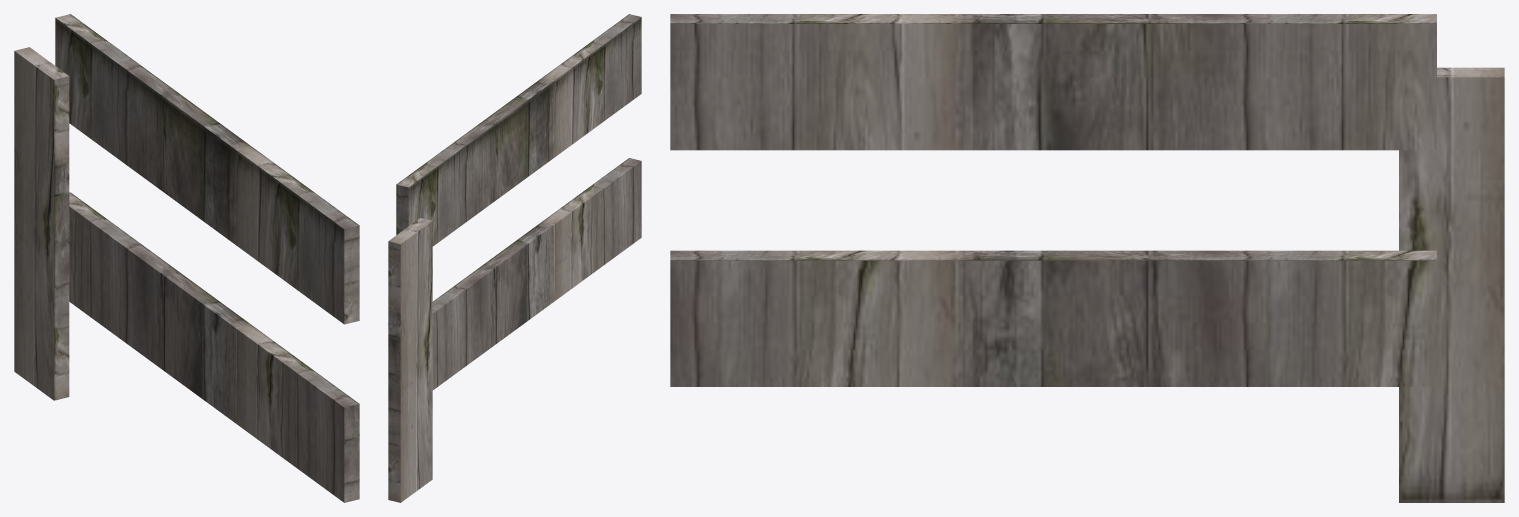
File: Pier-Fence.FBX
3 renders of one model, left to right at view 1: azimuth 30°, elevation 25°; view 2: azimuth 150°, elevation 25°; view 3: azimuth 270°, elevation 25°, orthographic. The views are drawn at different scales.
Parts seen in each view (by area): view 1: Fence003; view 2: Fence003; view 3: Fence003.
Part boxes in pixels (x1,y1,x2,y2): Fence003: [14, 14, 359, 502]; Fence003: [388, 14, 641, 502]; Fence003: [670, 14, 1504, 502].
Size of the model in its own units: 0.0831 by 0.9472 by 1.46.
1 material, 1 textured.
